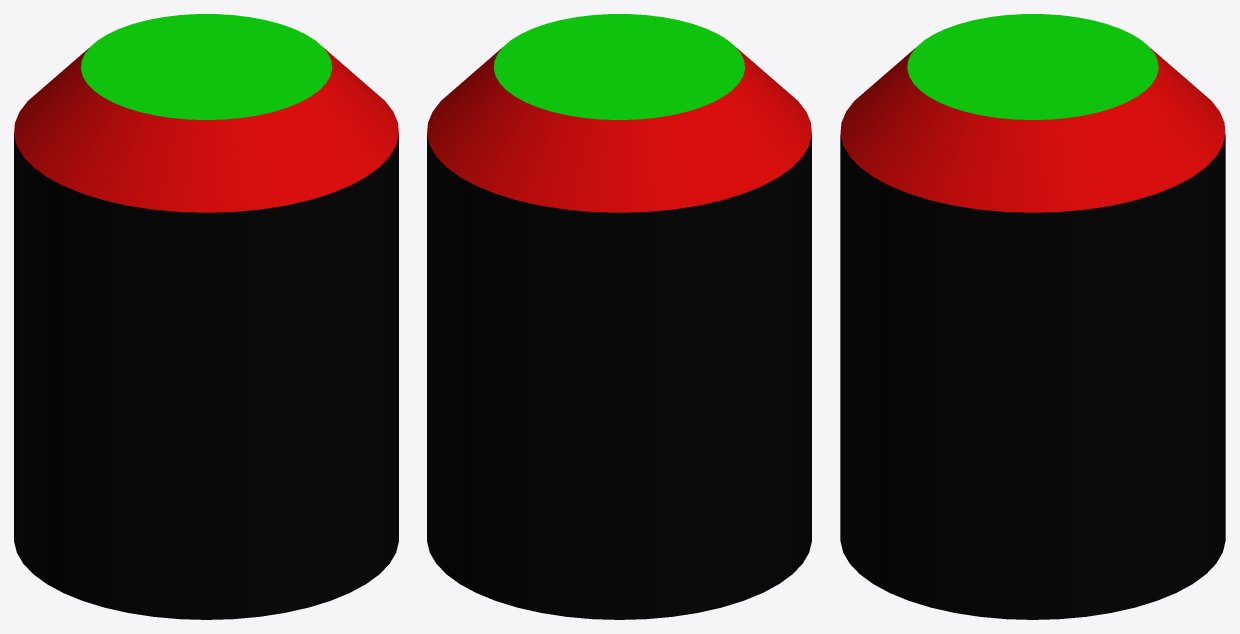
The model's file is bumper - canister B.fbx.
3 renders of one model, left to right at view 1: azimuth 30°, elevation 25°; view 2: azimuth 150°, elevation 25°; view 3: azimuth 270°, elevation 25°, orthographic.
Parts seen in each view (by area): view 1: canister_B; view 2: canister_B; view 3: canister_B.
Part boxes in pixels (<box>): canister_B: <box>14,14,398,619</box>; canister_B: <box>427,14,811,619</box>; canister_B: <box>840,14,1225,619</box>.
Size of the model in its own units: 111 by 150 by 111.
